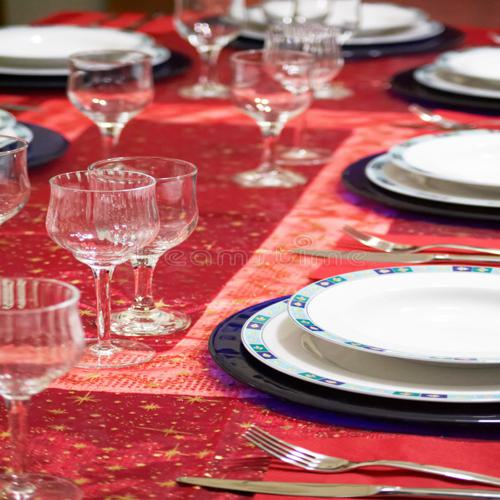copa: (47, 174, 161, 367), (89, 159, 198, 333), (3, 278, 88, 500), (265, 26, 346, 166), (68, 51, 155, 180), (231, 51, 307, 189), (172, 1, 239, 101)
